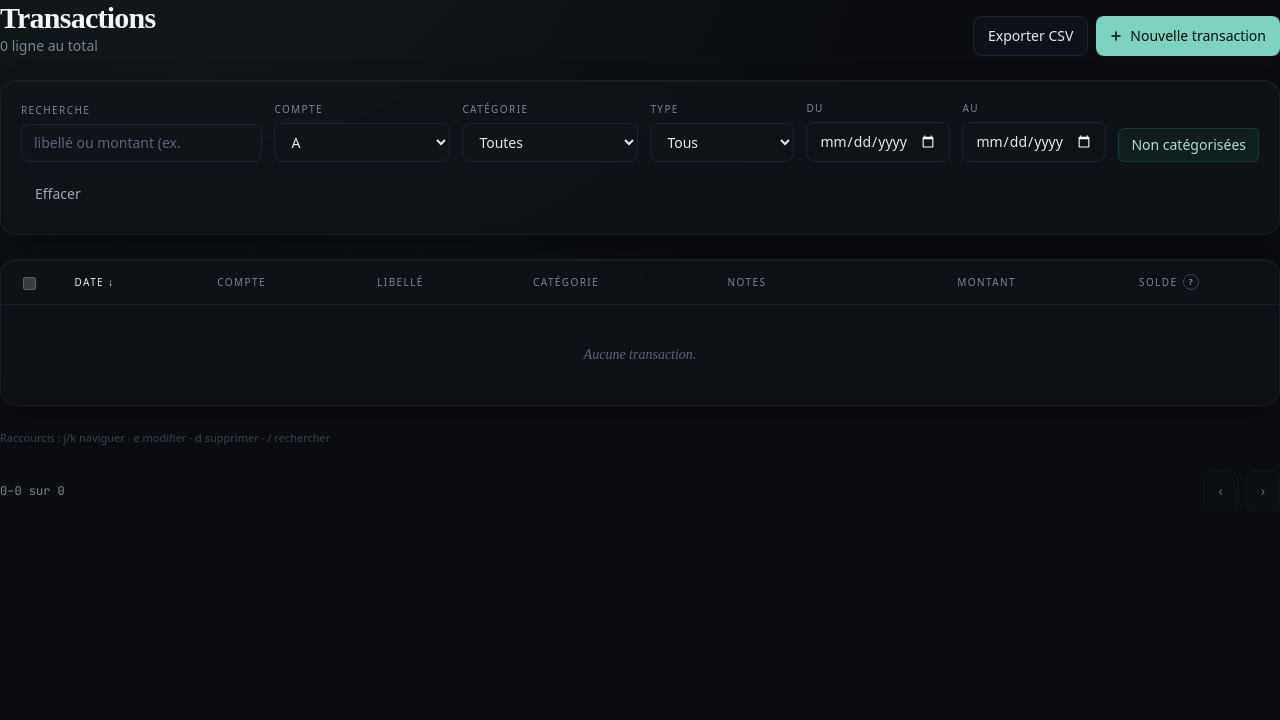
Transactions page (characterization) › opens the create-transaction modal when "Nouvelle transaction" is clicked
This screenshot has width=1280, height=720.
Check: the text "Aucune transaction." is shown, box [1,304,1279,405]
Click the button "Nouvelle transaction".
click(1188, 36)  # box [1096,16,1279,56]
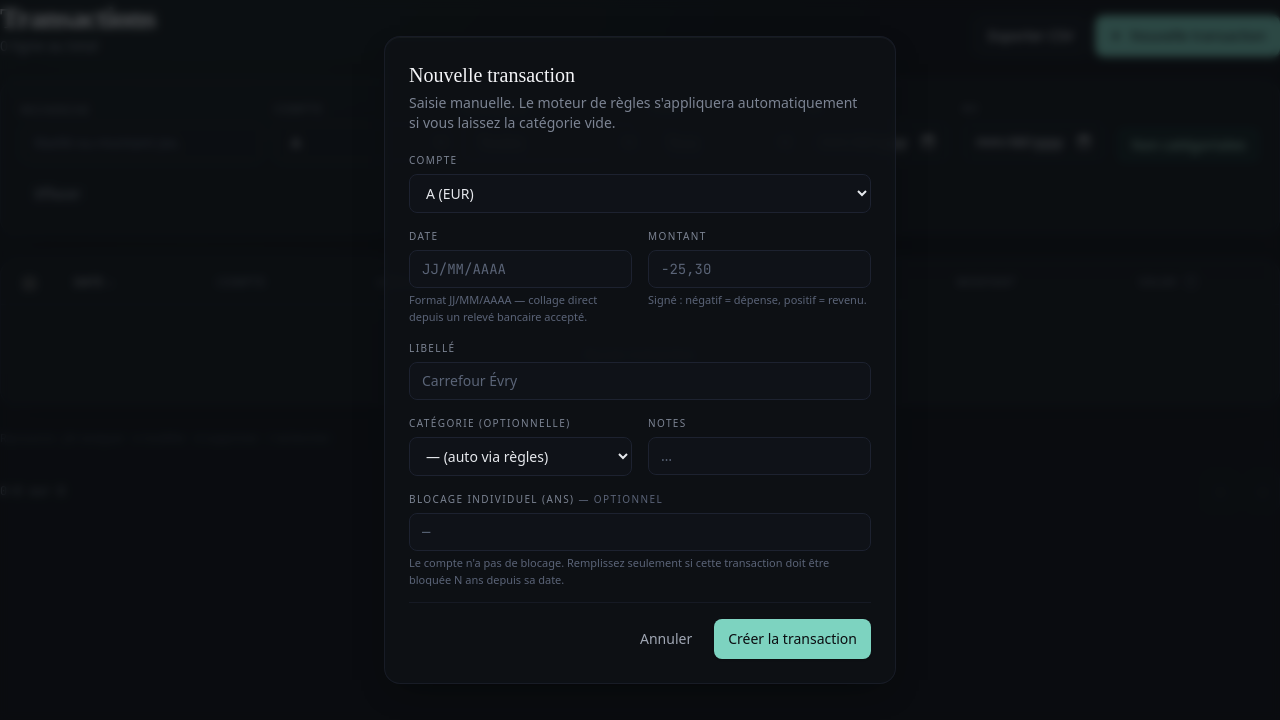
Check: the dialog is shown
Check: the button "Créer la transaction" is shown, box [714,619,871,659]
